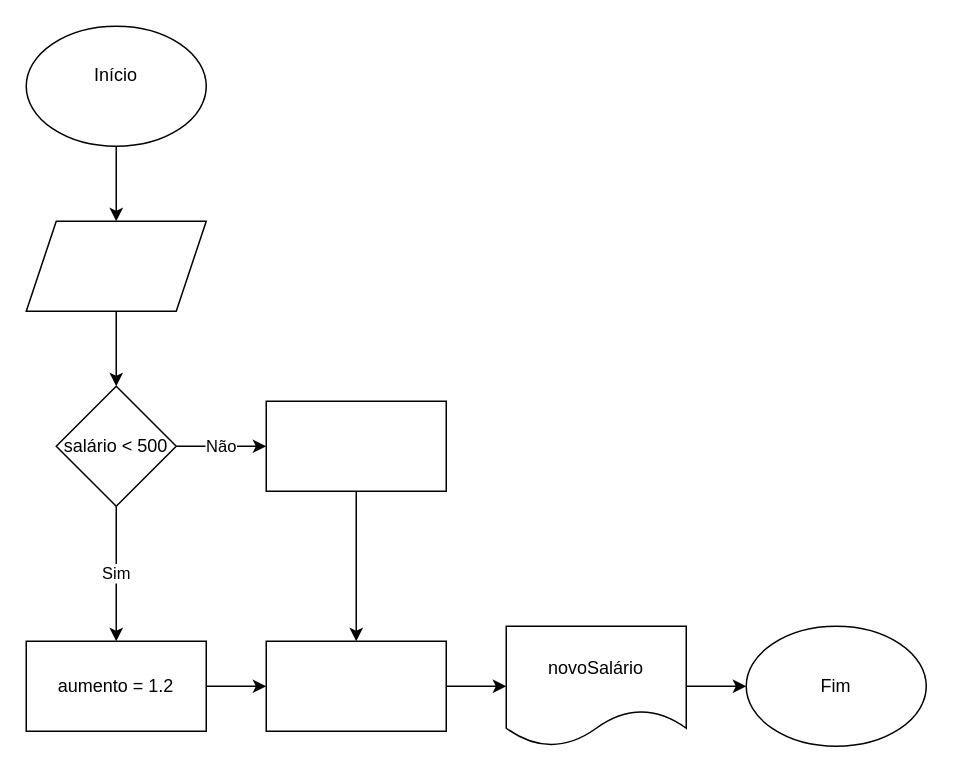
Some shapes in this 953 by 773 pixel diagram are drawn without their labels. The shapes that lost their labels are listed below. From the top down, each one's box as (x1, y1, x2, y2) in pixels, then its label:
(25, 220, 206, 311): salário, aumento, novoSalário
(265, 400, 446, 491): aumento = 1.1
(265, 640, 446, 731): novoSalário = salário * aumento
